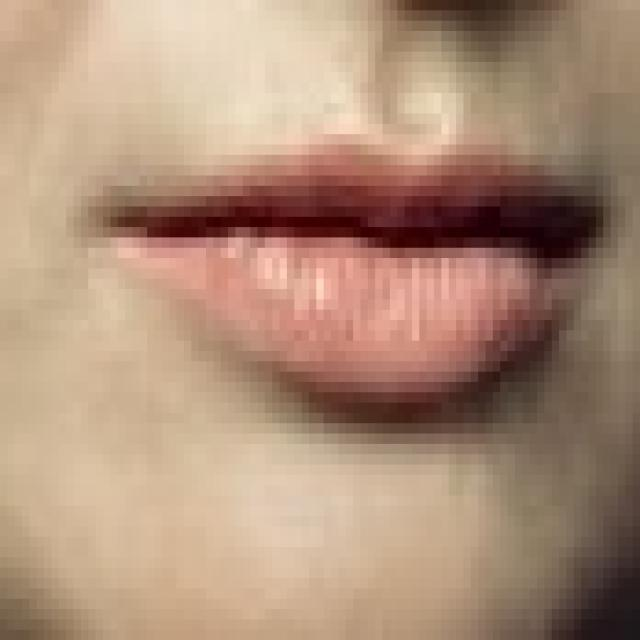closed-mouth: (81, 124, 604, 413)
